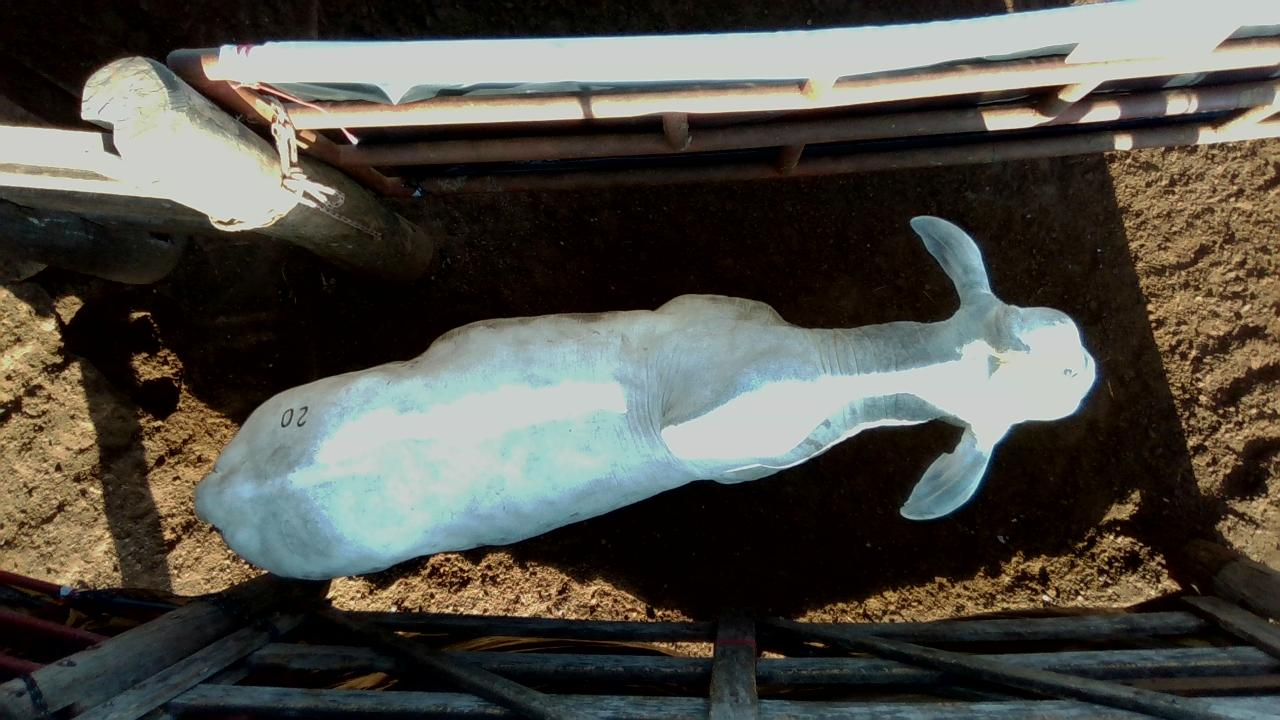cattle: (192, 213, 1097, 581)
